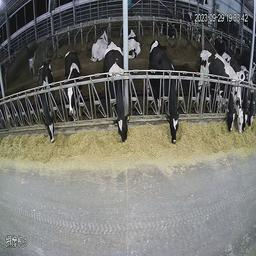cow: (150, 41, 184, 147), (199, 49, 235, 131), (104, 45, 129, 139), (62, 48, 83, 118), (38, 57, 54, 147), (92, 26, 107, 61), (159, 14, 179, 40), (127, 24, 140, 58)
